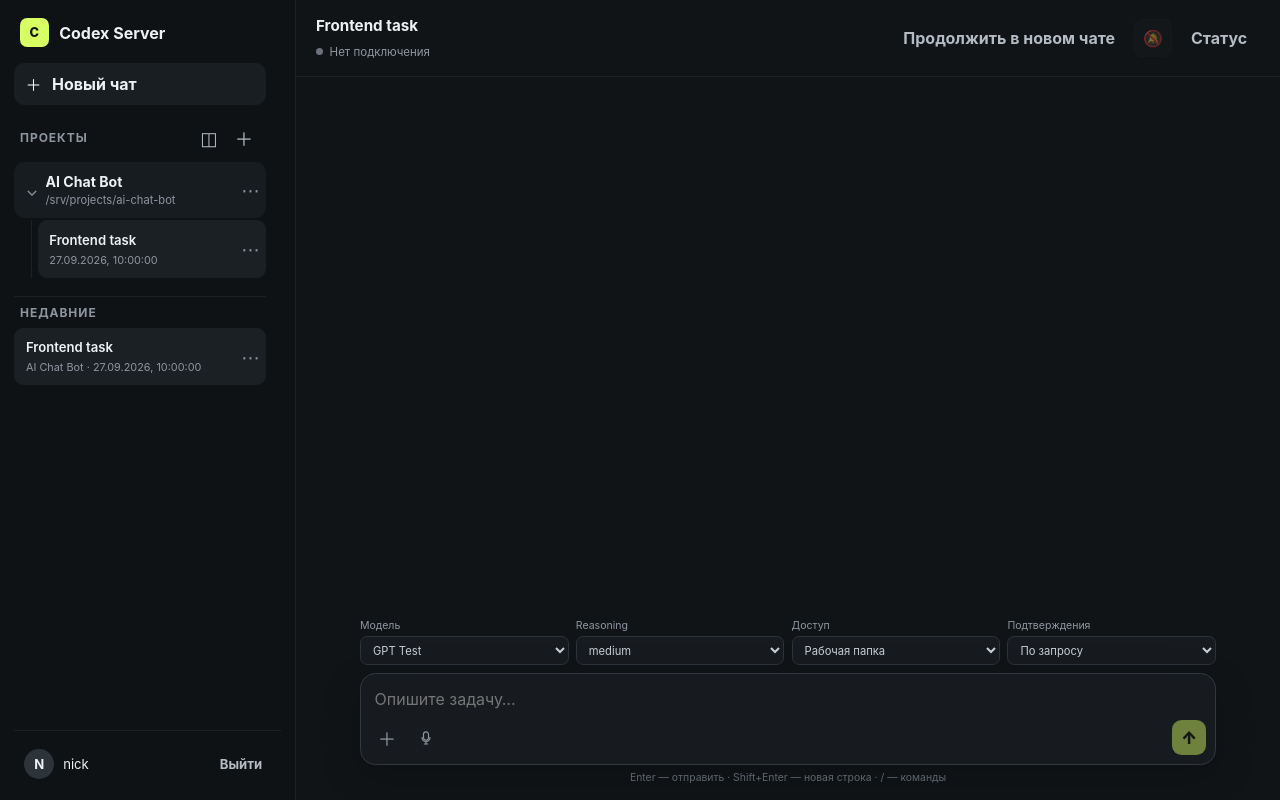
Test case: App › accepts a saturated task into the visible durable queue and clears the draft
Click the button with aria-label "Открыть недавний чат Frontend task" at (125, 356), box [14,328,235,385]
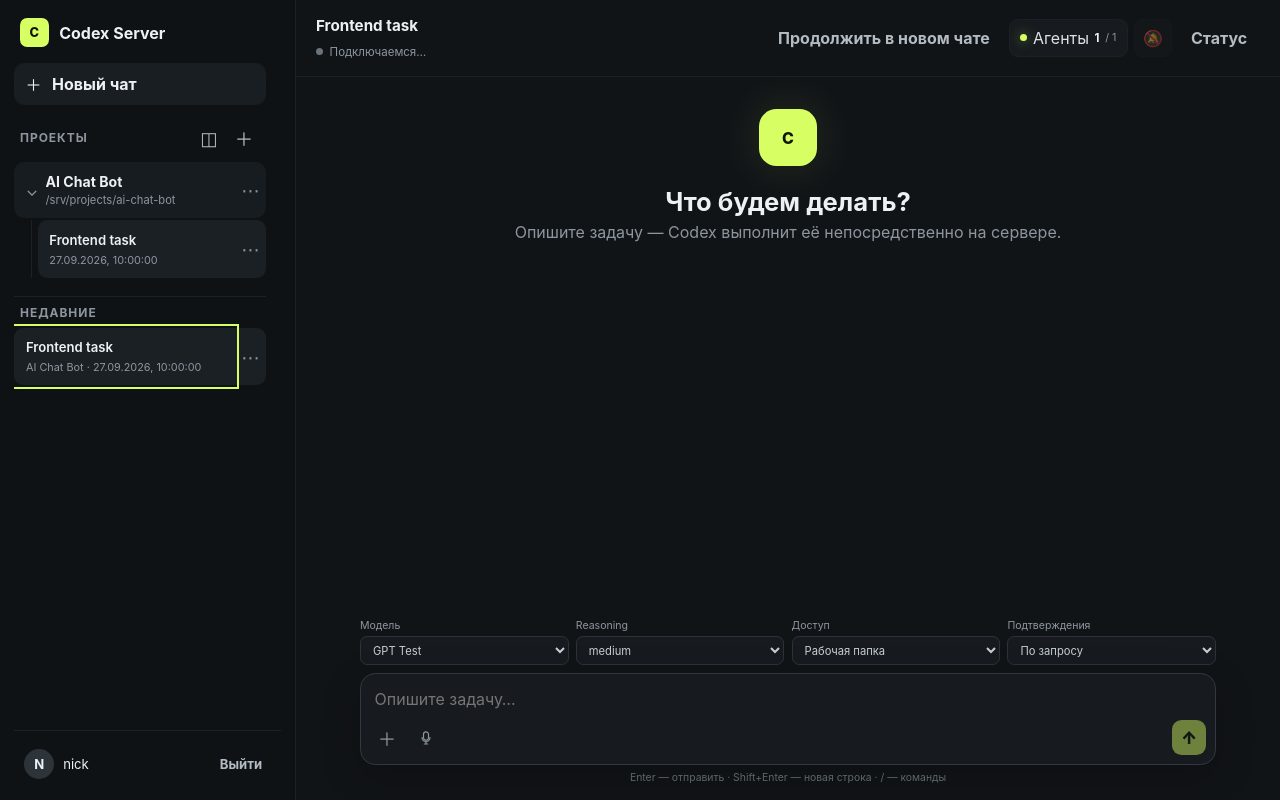
Type "Запусти после освобождения слота" into the text box named "Сообщение Codex" at (788, 697), box [361,674,1215,720]
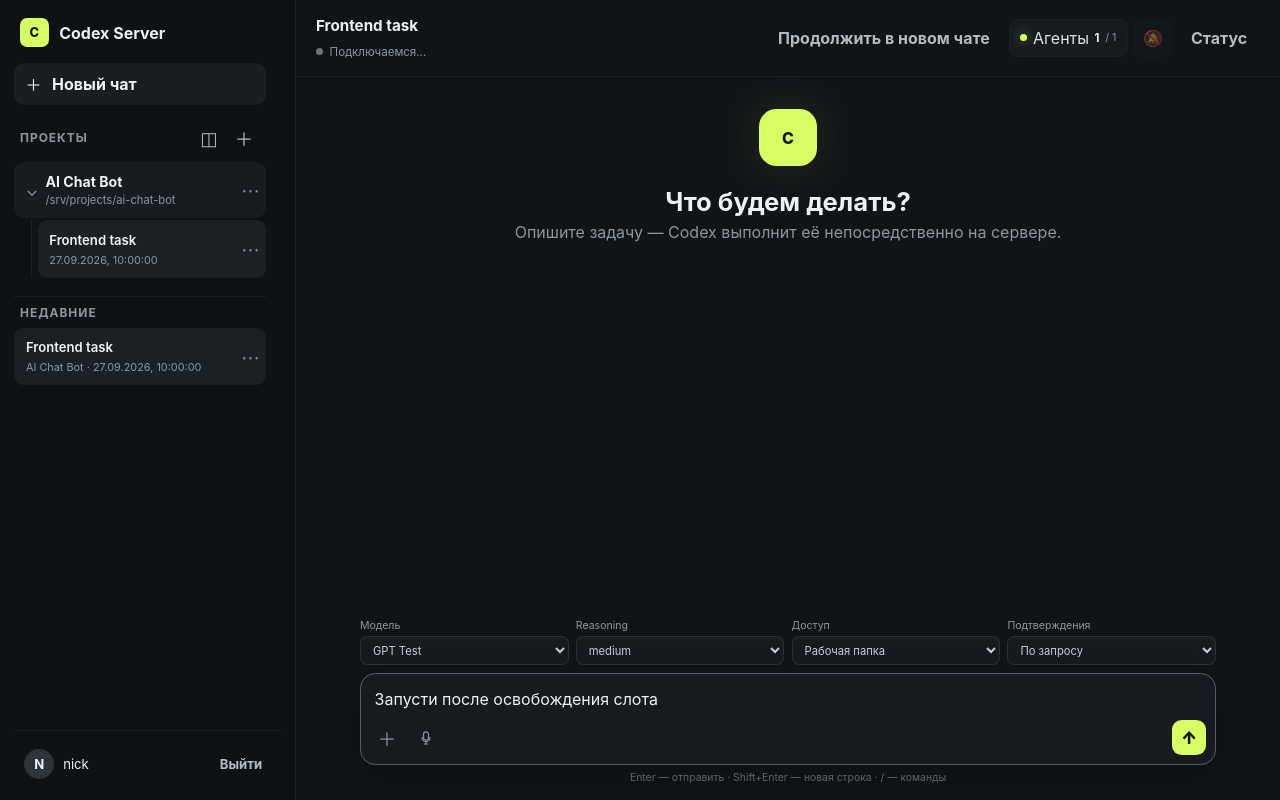
Click the button named "Отправить сообщение" at (1189, 738), box [1172,720,1206,755]
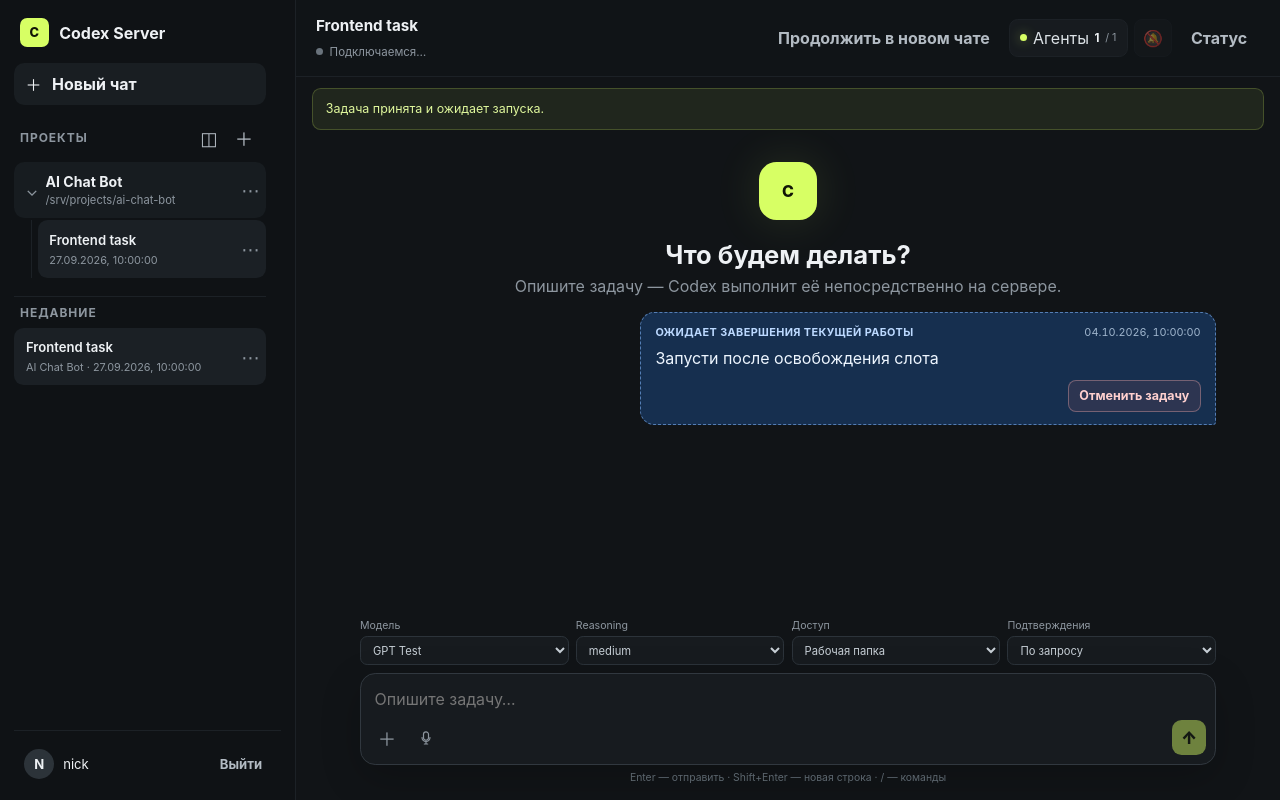
Check: the text "Задача принята и ожидает запуска." is shown, box [326,100,544,118]
Check: the text "Ожидает завершения текущей работы" is shown, box [655,325,914,339]
Check: the text "Запусти после освобождения слота" is shown, box [655,348,939,368]
